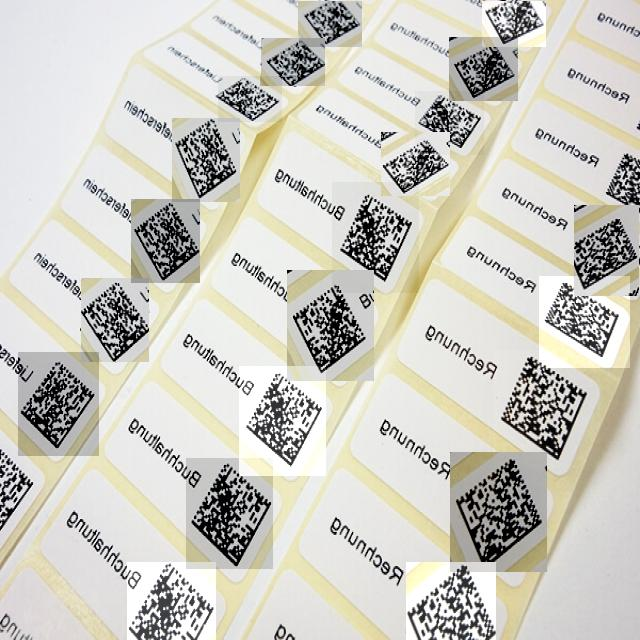DataMatrix: (493, 350, 600, 468), (450, 452, 547, 572), (186, 458, 273, 569), (287, 270, 374, 381), (332, 182, 419, 293), (239, 366, 326, 476), (18, 352, 99, 456), (539, 276, 630, 368), (406, 562, 496, 640), (127, 562, 216, 640), (574, 205, 639, 296), (131, 199, 200, 283), (172, 118, 240, 202), (81, 279, 149, 363), (381, 133, 450, 197), (415, 91, 484, 155), (449, 37, 518, 101), (261, 38, 325, 86), (482, 1, 546, 47), (298, 1, 362, 47), (218, 76, 282, 122)
